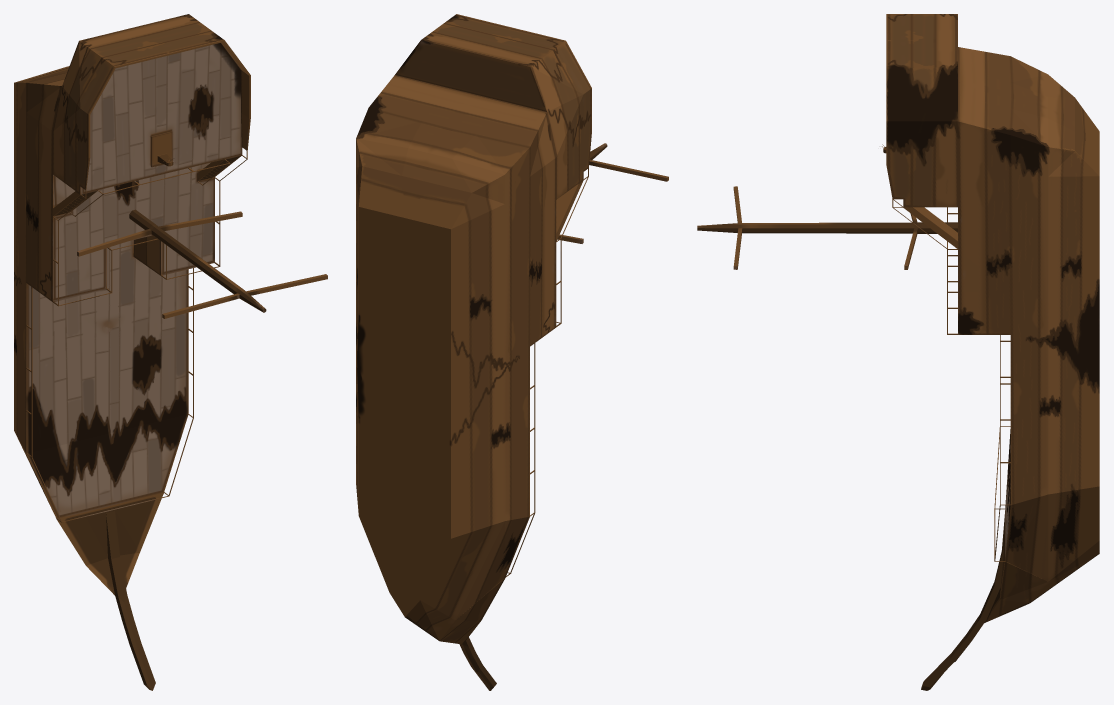
Rendered from Boat_newRotated.FBX.
The picture shows the model from 3 angles, left to right: view 1: azimuth 30°, elevation 25°; view 2: azimuth 150°, elevation 25°; view 3: azimuth 270°, elevation 25°; orthographic projection.
Visible parts, largest first — view 1: Object002; view 2: Object002; view 3: Object002.
Boxes of the visible parts, x1,y1,x2,y2 form: Object002: (14, 14, 327, 690); Object002: (356, 14, 668, 690); Object002: (697, 14, 1099, 690).
Size of the model in its own units: 40.92 by 155 by 87.03.
